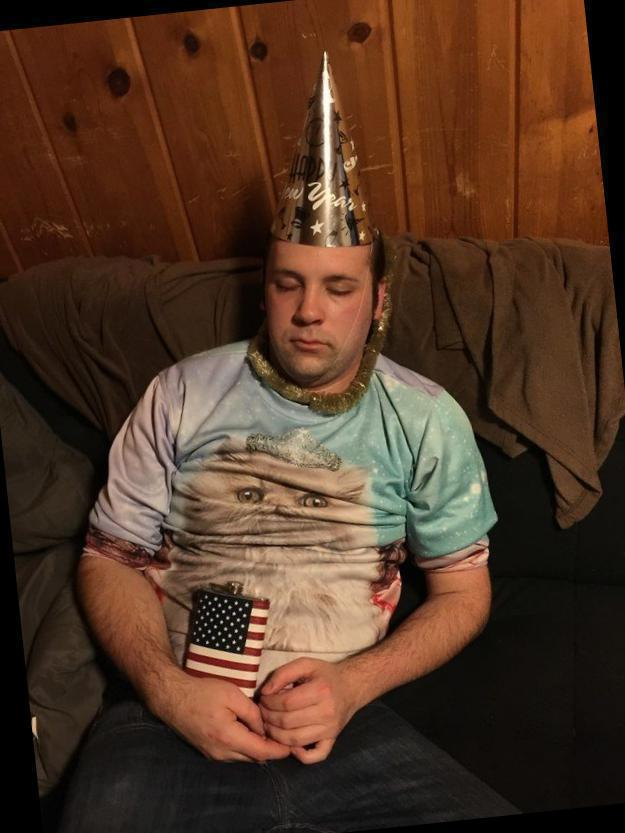Drunk: (271, 244, 366, 373)
